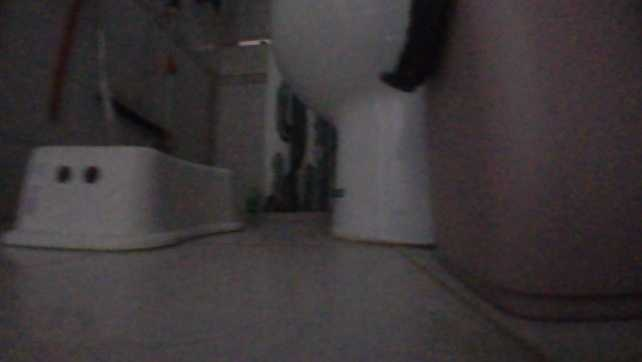toilet: (268, 0, 439, 247)
